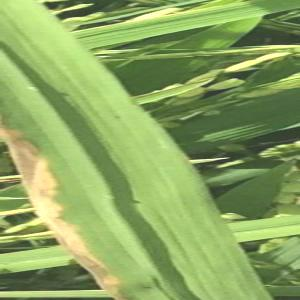2 BacterialBlight: (6, 15, 186, 299)
